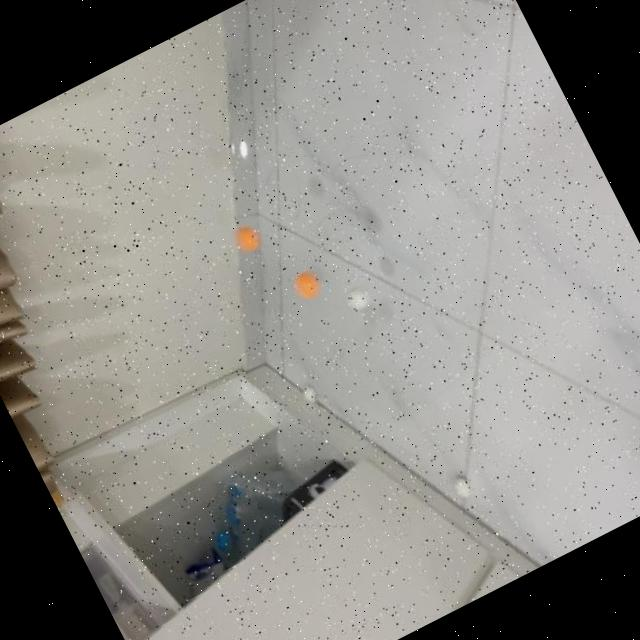ping-pong-ball: (223, 213, 270, 264), (289, 268, 325, 302), (342, 282, 372, 314), (448, 473, 478, 504), (300, 380, 322, 406)
